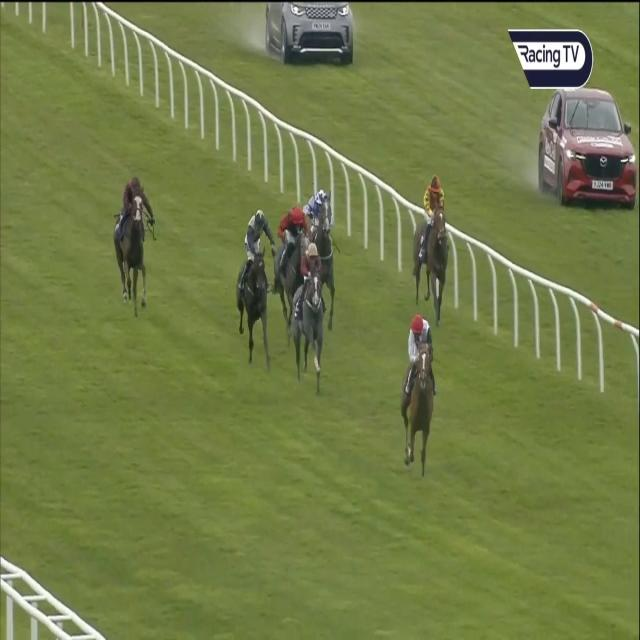horses-racing: (234, 201, 274, 363), (411, 168, 452, 320), (399, 310, 436, 473), (113, 178, 156, 317), (292, 240, 324, 394), (309, 182, 344, 320), (278, 202, 304, 304)
